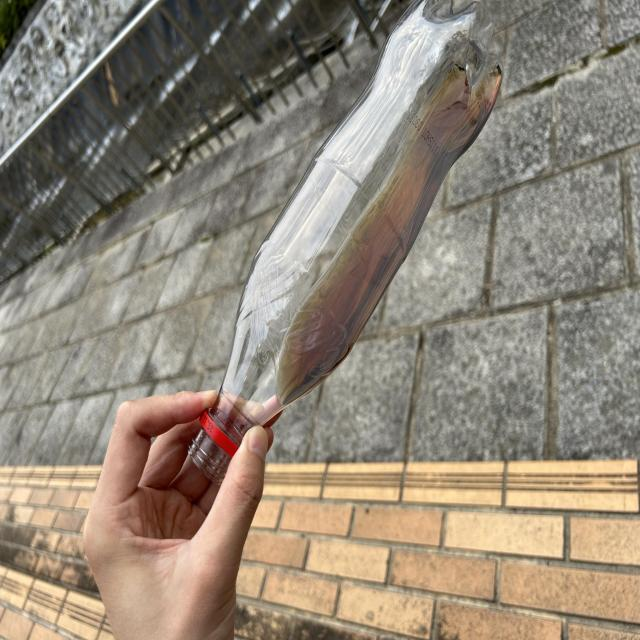medium: (190, 0, 502, 481)
